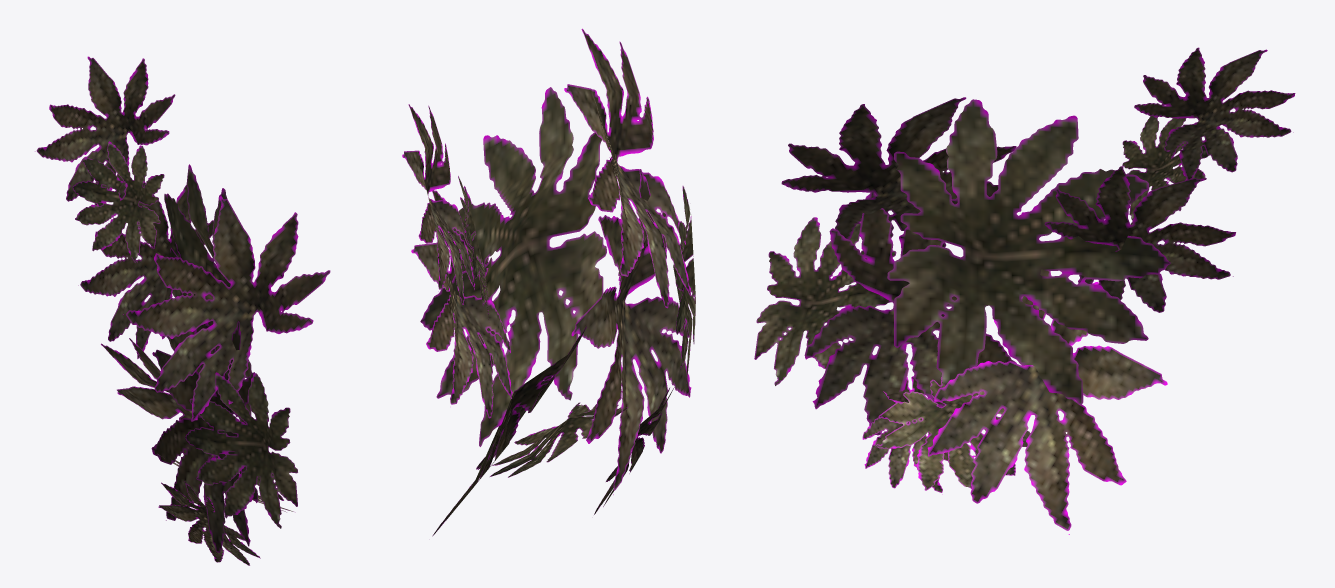
The model's file is tdr_tlv_wallplant_a2.obj.
3 renders of one model, left to right at view 1: azimuth 30°, elevation 25°; view 2: azimuth 150°, elevation 25°; view 3: azimuth 270°, elevation 25°, orthographic. The views are drawn at different scales.
Visible parts, largest first — view 1: tdr_tlv_wallplant_a; view 2: tdr_tlv_wallplant_a; view 3: tdr_tlv_wallplant_a.
Boxes of the visible parts, left/top/right/bottom form: tdr_tlv_wallplant_a: left=35, top=56, right=330, bottom=565; tdr_tlv_wallplant_a: left=402, top=28, right=695, bottom=536; tdr_tlv_wallplant_a: left=754, top=47, right=1295, bottom=534.
Bounding box in the file's own units: 746 × 1966 × 1969.
